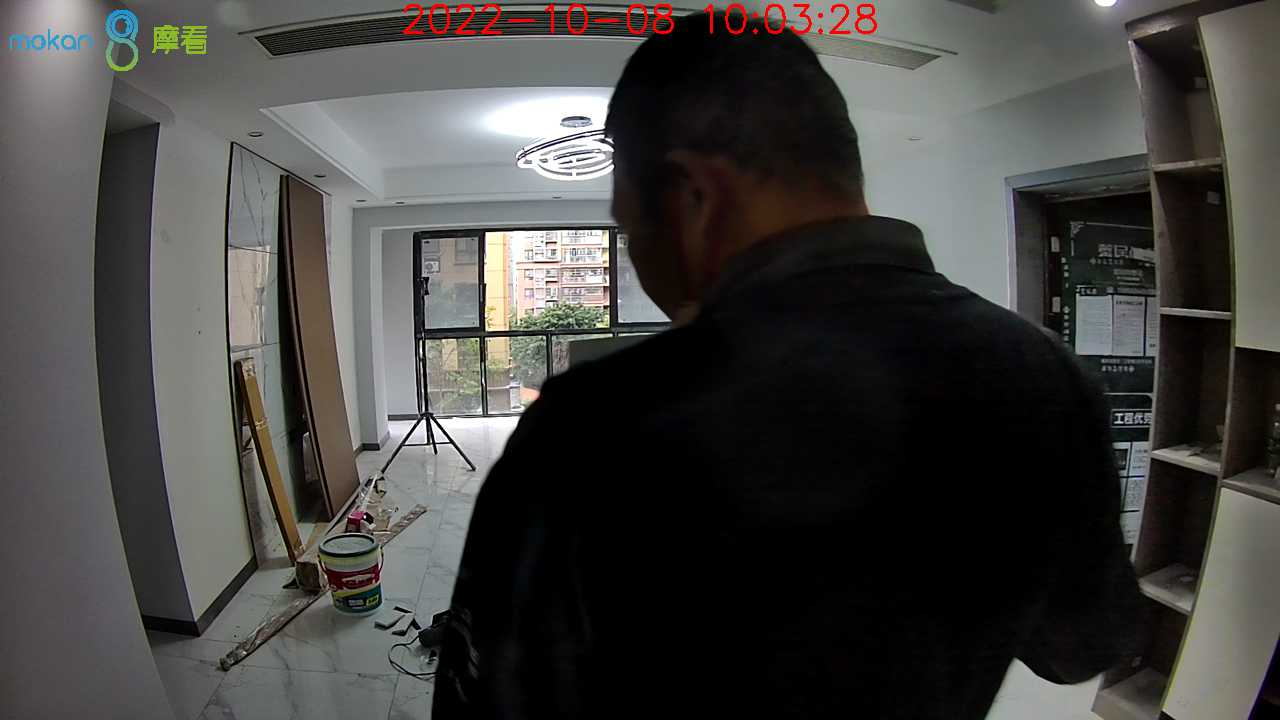people: (432, 9, 1156, 720)
window: (419, 216, 642, 416)
